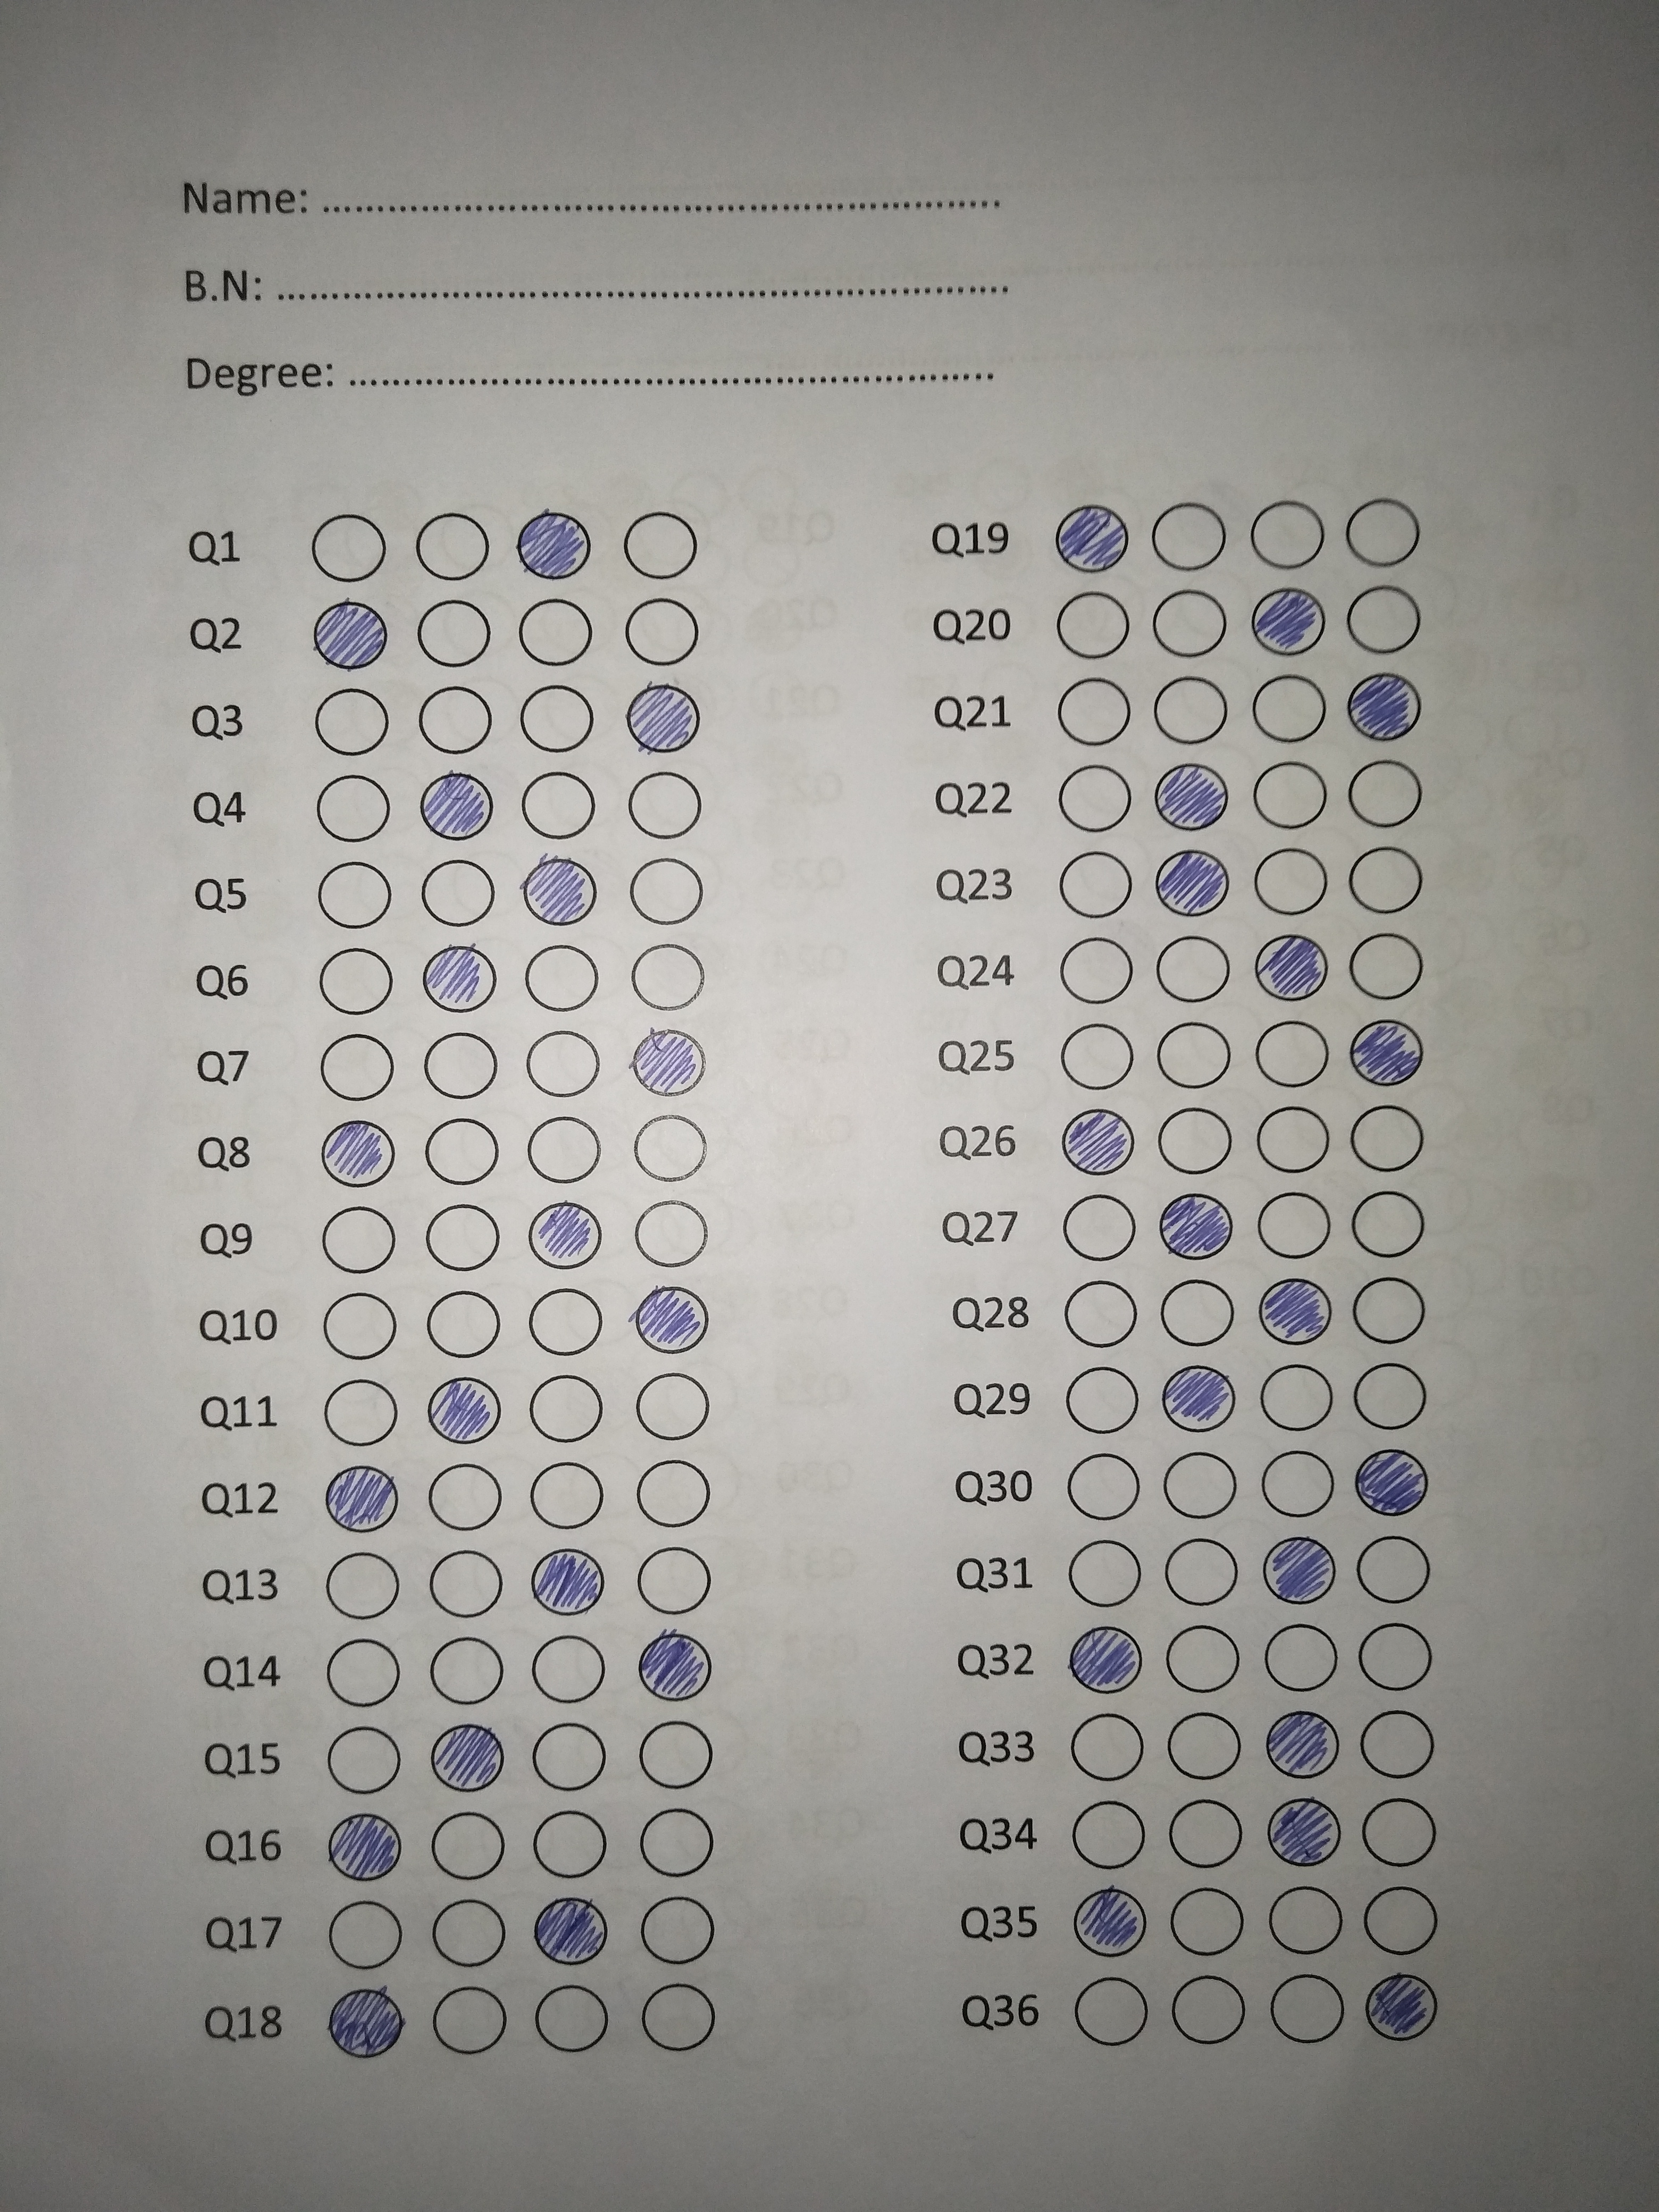not-c: (626, 1975, 725, 2064), (1042, 934, 1141, 1015), (624, 1104, 716, 1191), (315, 1890, 408, 1977), (617, 500, 709, 585), (608, 589, 708, 667), (415, 1980, 514, 2059), (300, 502, 385, 592), (627, 1366, 720, 1449), (1148, 1015, 1243, 1097), (1053, 1191, 1147, 1273), (1042, 671, 1138, 751), (1044, 756, 1140, 836), (1037, 585, 1134, 664), (312, 1285, 411, 1362), (1340, 482, 1425, 571), (620, 763, 711, 846), (307, 1198, 399, 1280), (518, 1369, 610, 1451), (511, 766, 605, 846), (1054, 1362, 1148, 1442), (315, 1372, 404, 1456), (1358, 1789, 1446, 1872), (422, 1895, 514, 1975), (413, 848, 500, 932), (1249, 1015, 1337, 1099), (411, 500, 491, 590), (518, 1280, 608, 1360), (1044, 846, 1138, 923), (612, 853, 708, 928), (1260, 1970, 1345, 2054), (1145, 495, 1227, 582), (521, 1632, 610, 1712), (1159, 1879, 1248, 1959), (1147, 587, 1237, 665), (1253, 1442, 1344, 1521), (1061, 1796, 1152, 1874), (420, 1456, 512, 1533), (523, 1458, 615, 1534), (1148, 932, 1241, 1008), (411, 1028, 505, 1103), (1342, 927, 1427, 1008), (1345, 1355, 1434, 1433), (1061, 1707, 1150, 1785), (1258, 1881, 1347, 1959), (1349, 754, 1439, 831), (298, 949, 397, 1019), (626, 1541, 718, 1616), (631, 1893, 723, 1968), (308, 768, 394, 848), (528, 1979, 613, 2059), (1246, 843, 1331, 923), (629, 1458, 720, 1533), (1047, 1022, 1141, 1094), (427, 1634, 509, 1716), (322, 1634, 404, 1716), (1244, 1191, 1335, 1264), (1342, 583, 1422, 665), (1251, 672, 1331, 754), (1347, 1188, 1429, 1268), (1161, 1444, 1243, 1524), (1359, 1883, 1441, 1963), (312, 1036, 397, 1113), (425, 1810, 511, 1886), (1152, 669, 1237, 745), (1253, 1359, 1338, 1435), (1351, 1705, 1436, 1782), (523, 1109, 610, 1184), (1162, 1796, 1249, 1871), (624, 937, 713, 1010), (1066, 1446, 1147, 1526), (1159, 1536, 1241, 1615), (418, 1115, 502, 1191), (1161, 1620, 1244, 1696), (1072, 1973, 1155, 2050), (422, 1285, 507, 1360), (1243, 493, 1328, 568), (627, 1197, 716, 1268), (1349, 838, 1429, 916), (638, 1714, 714, 1796), (1166, 1972, 1248, 2048), (420, 1198, 504, 1273), (322, 1721, 406, 1796), (1162, 1709, 1246, 1784), (525, 1723, 613, 1792), (519, 1021, 599, 1097), (1356, 1533, 1436, 1609), (411, 597, 495, 671), (310, 859, 394, 932), (1260, 1620, 1344, 1693), (511, 594, 596, 665), (307, 683, 392, 754), (321, 1547, 401, 1622), (533, 1804, 613, 1879), (416, 681, 498, 754), (1249, 761, 1337, 829), (1349, 1271, 1425, 1348), (1065, 1280, 1143, 1355), (1070, 1534, 1145, 1613), (1356, 1620, 1436, 1693), (638, 1810, 720, 1881), (518, 683, 596, 756), (518, 944, 599, 1014), (425, 1548, 511, 1615), (1159, 1106, 1230, 1181), (1164, 1280, 1237, 1348), (1255, 1108, 1331, 1172), (1345, 1113, 1424, 1172)
taken-c: (324, 1986, 406, 2064), (532, 1893, 612, 1970), (636, 1627, 714, 1703), (1363, 1966, 1439, 2045), (514, 509, 594, 583), (308, 597, 389, 672), (622, 681, 702, 754), (319, 1116, 399, 1190), (1263, 1792, 1344, 1865), (1068, 1886, 1150, 1958), (634, 1282, 711, 1357), (326, 1810, 403, 1885), (1263, 1707, 1340, 1782), (1249, 583, 1326, 658), (521, 855, 599, 928), (528, 1545, 606, 1618), (429, 1719, 507, 1792), (1161, 1360, 1239, 1433), (1347, 1015, 1425, 1089), (1253, 930, 1331, 1003), (1154, 846, 1232, 920), (416, 772, 497, 843), (1066, 1623, 1147, 1695), (422, 942, 498, 1015), (631, 1026, 708, 1099), (1054, 502, 1131, 575), (1255, 1277, 1333, 1348), (1060, 1106, 1138, 1177), (1345, 672, 1424, 744), (1263, 1533, 1338, 1606), (525, 1198, 601, 1270), (324, 1463, 401, 1534), (1354, 1447, 1431, 1519), (425, 1374, 504, 1444), (1154, 763, 1230, 833), (1157, 1193, 1236, 1261)
